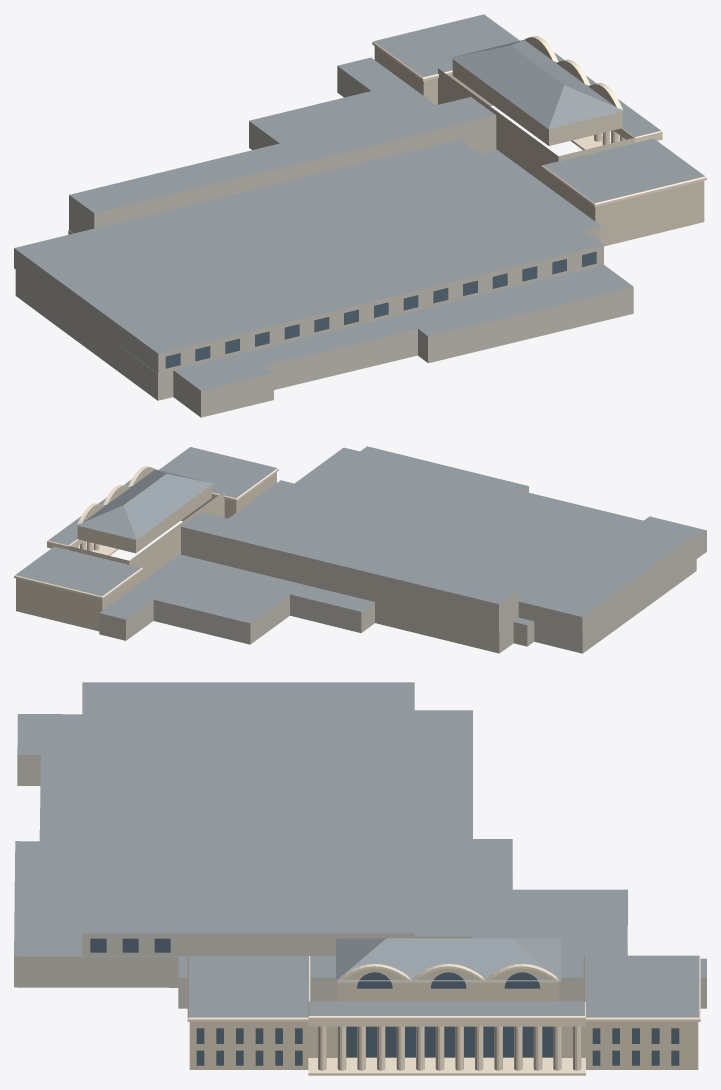
Rendered from jax-prime-osborn-convention-center.glb.
The picture shows the model from 3 angles, top to bottom: view 1: azimuth 30°, elevation 25°; view 2: azimuth 150°, elevation 25°; view 3: azimuth 270°, elevation 25°; orthographic projection. The views are drawn at different scales.
Visible parts, largest first — view 1: Prime F. Osborn III Convention Center; view 2: Prime F. Osborn III Convention Center; view 3: Prime F. Osborn III Convention Center.
Part boxes in pixels (<box>): Prime F. Osborn III Convention Center: <box>14,14,706,417</box>; Prime F. Osborn III Convention Center: <box>14,446,706,653</box>; Prime F. Osborn III Convention Center: <box>14,682,706,1075</box>.
Bounding box in the file's own units: 188 × 26.1 × 162.
